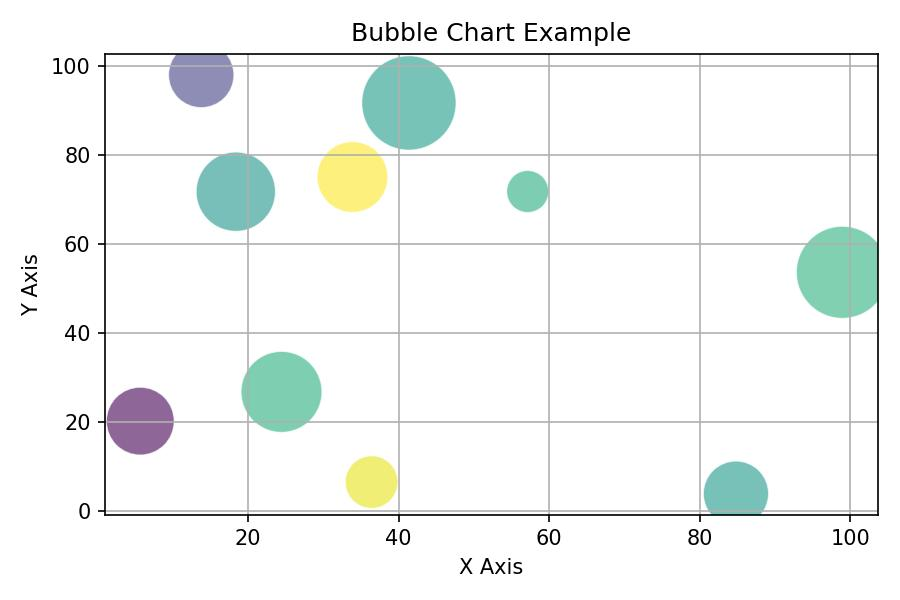axis: (79, 504, 885, 548), (64, 38, 117, 541)
circle: (362, 56, 456, 148), (796, 223, 879, 319), (241, 353, 324, 433), (199, 153, 276, 230), (316, 140, 389, 213), (105, 385, 177, 458), (703, 460, 772, 514), (168, 54, 235, 104), (344, 455, 403, 511), (508, 169, 551, 217)
